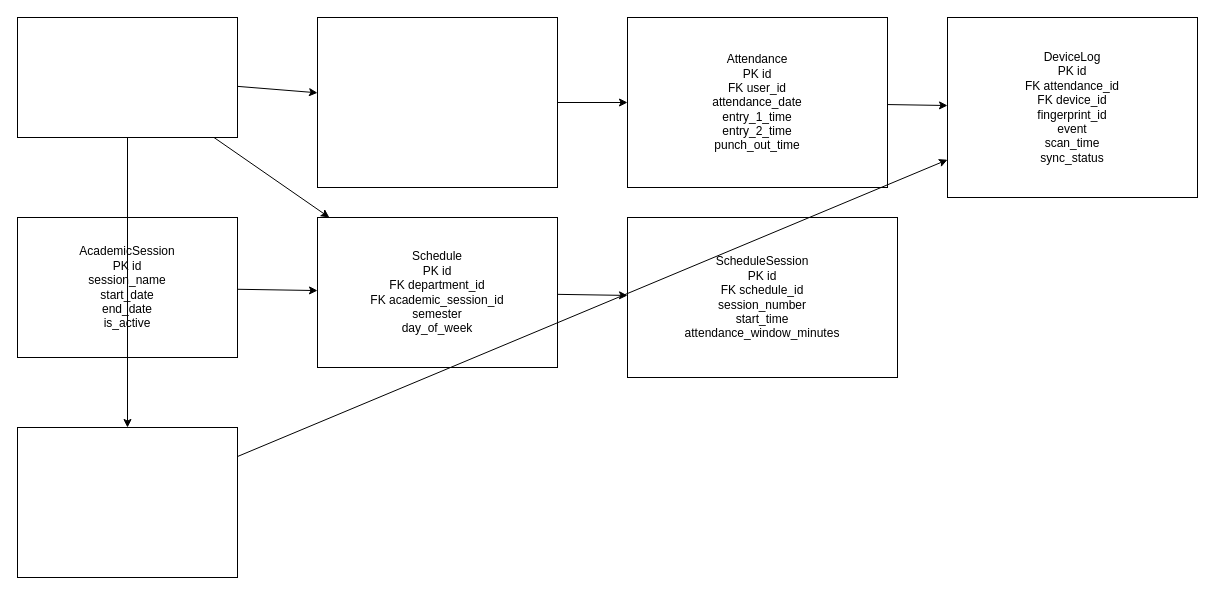
Some shapes in this 1215 by 595 pixel diagram are drawn without their labels. The shapes that lost their labels are listed below. From the top down, each one's centre as x and y in pixels, then its label:
[127,77]: Department PK id department_name department_code
[437,102]: User PK id name roll_number fingerprint_id FK department_id semester user_type
[127,502]: Device PK id device_name device_code FK department_id location is_active
